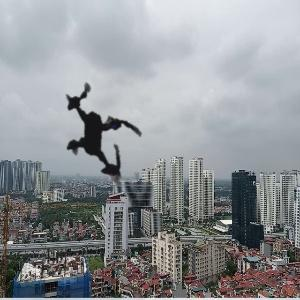drone: (5, 44, 187, 226)
